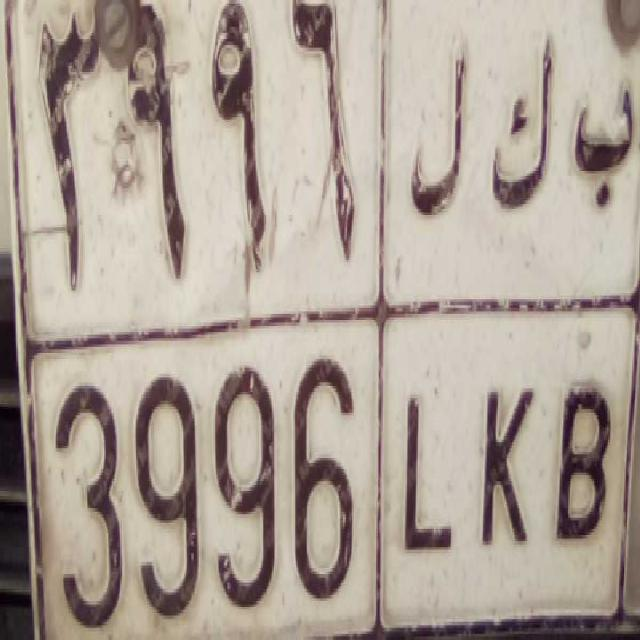license_plate: (34, 299, 634, 640)
